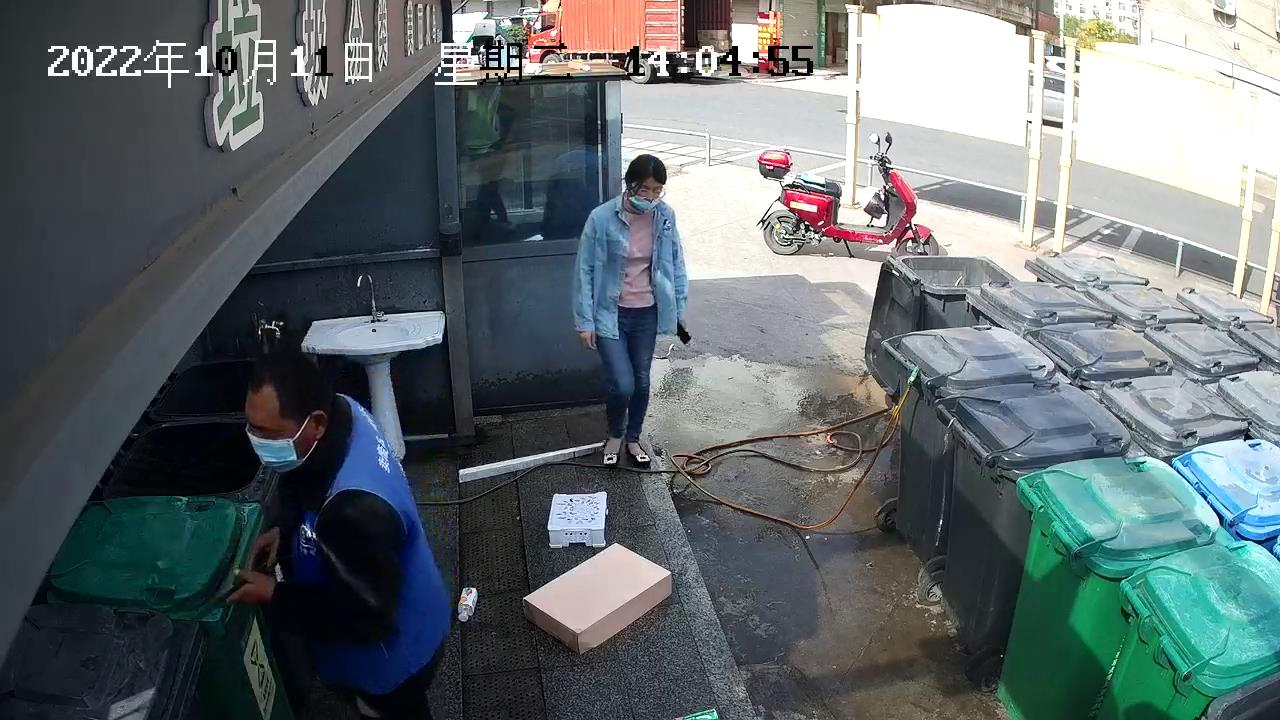suliaozhipin: (544, 488, 610, 549), (454, 585, 480, 622)
worker: (216, 348, 453, 720), (570, 152, 690, 469)
zhizhipin: (521, 540, 675, 656)
